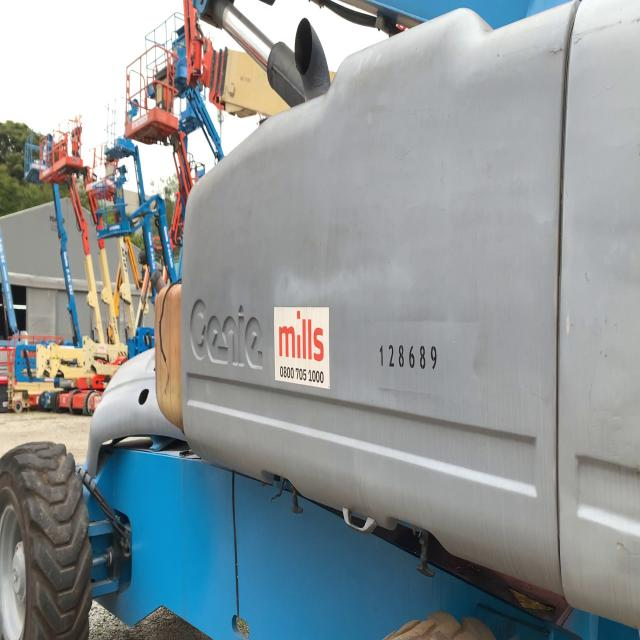Adesivos: (273, 305, 330, 390)
